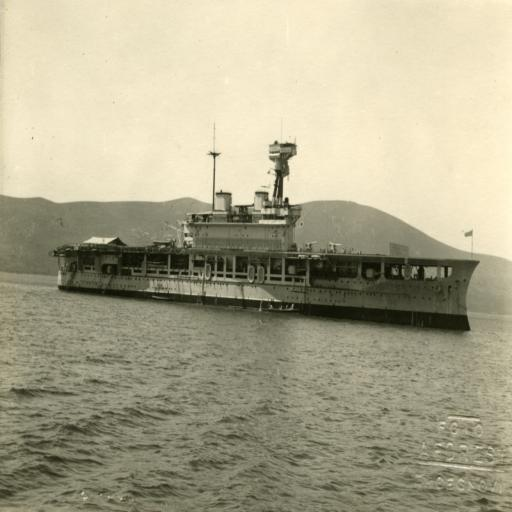Portanaves: (52, 136, 482, 338)
